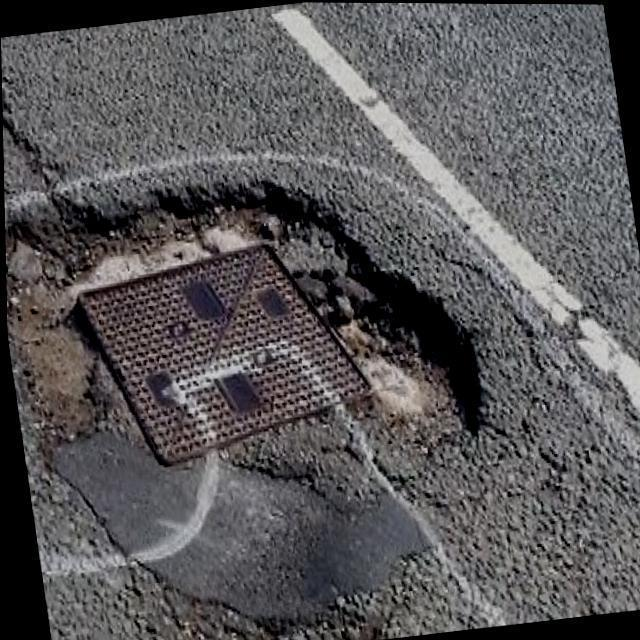Pothole: (4, 192, 483, 486)
